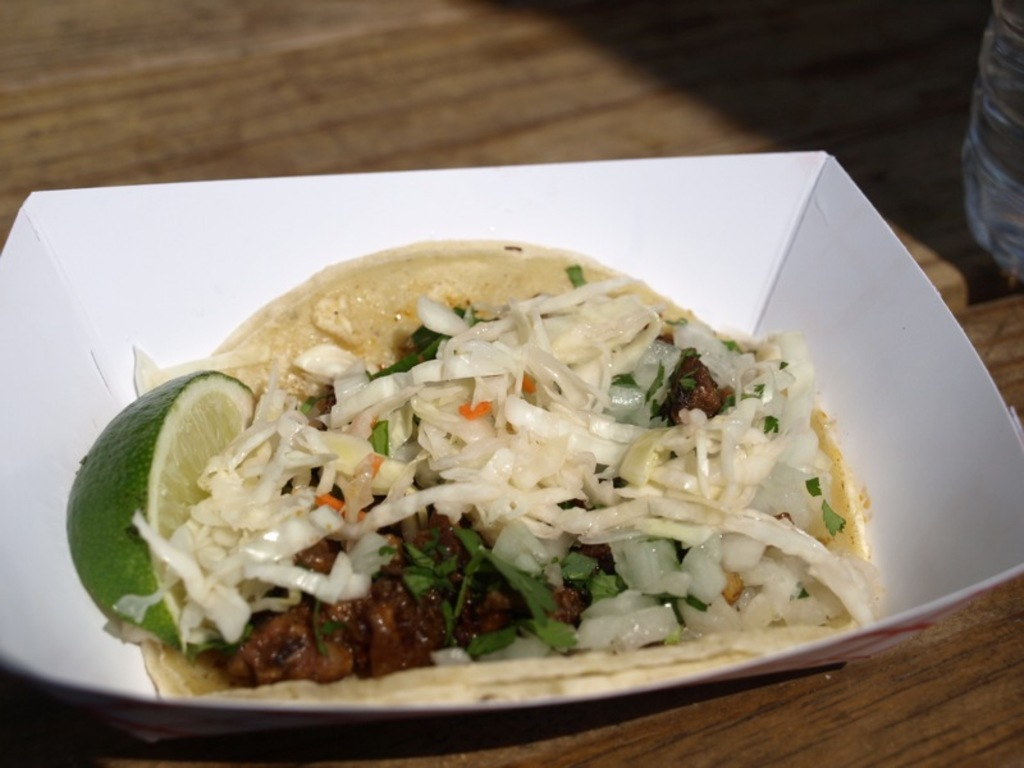taco: (111, 225, 893, 717)
